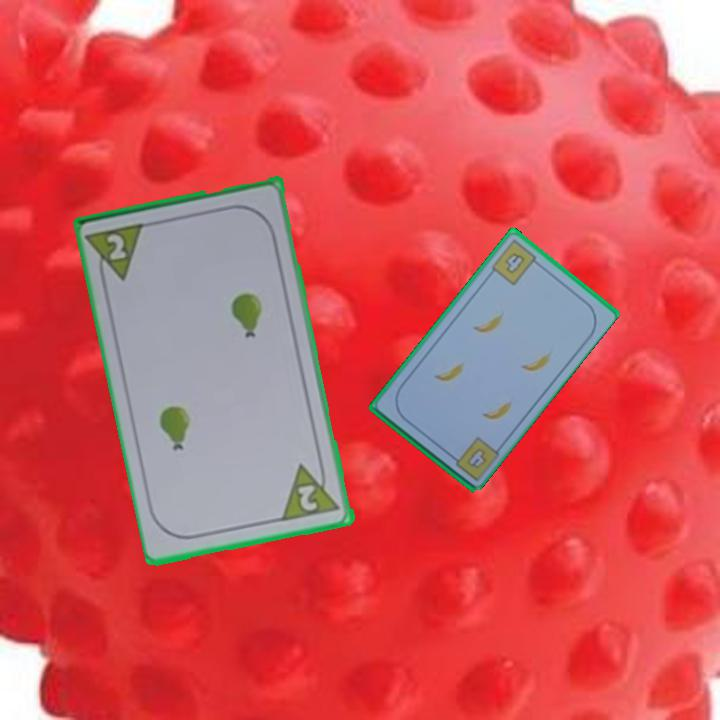2p: (279, 456, 344, 525), (85, 219, 150, 288)
4b: (488, 236, 543, 288), (463, 444, 489, 471)
